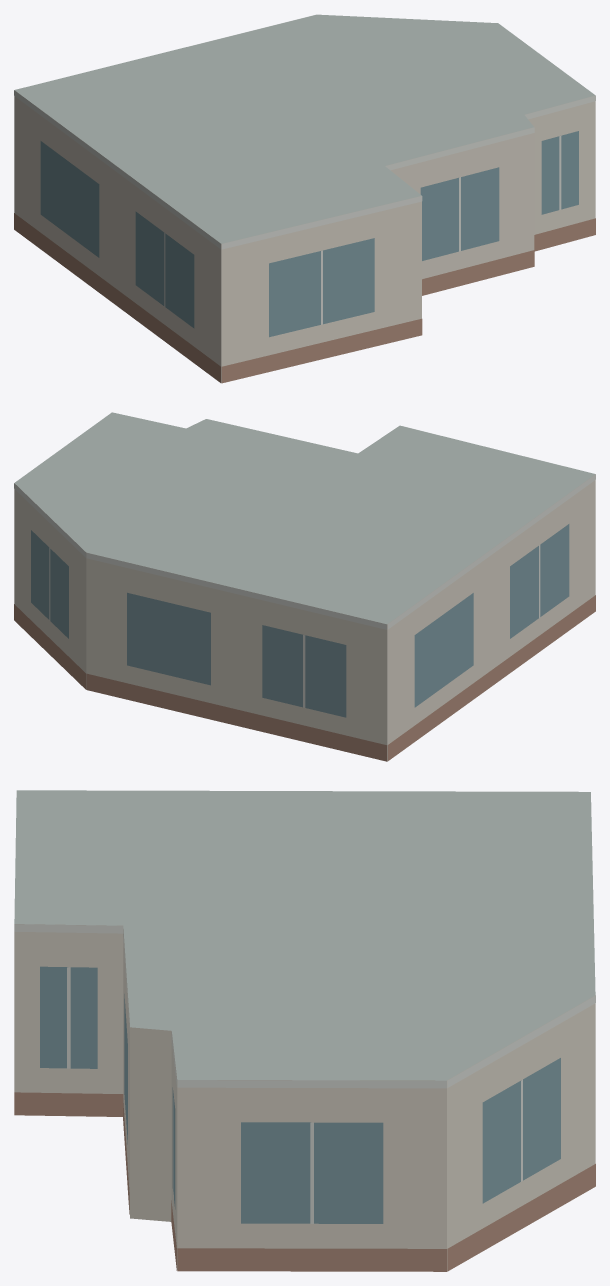
Rendered from survey-upis-32639614.glb.
3 renders of one model, top to bottom at view 1: azimuth 30°, elevation 25°; view 2: azimuth 150°, elevation 25°; view 3: azimuth 270°, elevation 25°, orthographic. The views are drawn at different scales.
Parts seen in each view (by area): view 1: survey-upis-32639614.tmp; view 2: survey-upis-32639614.tmp; view 3: survey-upis-32639614.tmp.
Boxes of the visible parts, left/top/right/bottom form: survey-upis-32639614.tmp: left=14, top=14, right=595, bottom=383; survey-upis-32639614.tmp: left=14, top=412, right=595, bottom=761; survey-upis-32639614.tmp: left=14, top=790, right=595, bottom=1271.
Size of the model in its own units: 9.94 by 3.05 by 8.42.
